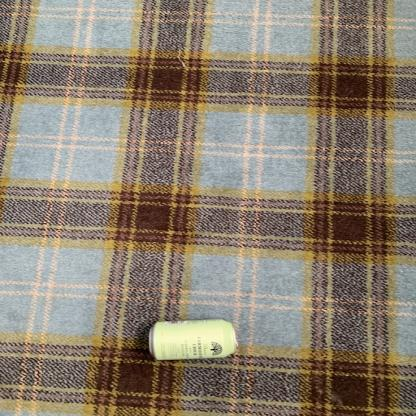trash: (144, 318, 244, 362)
